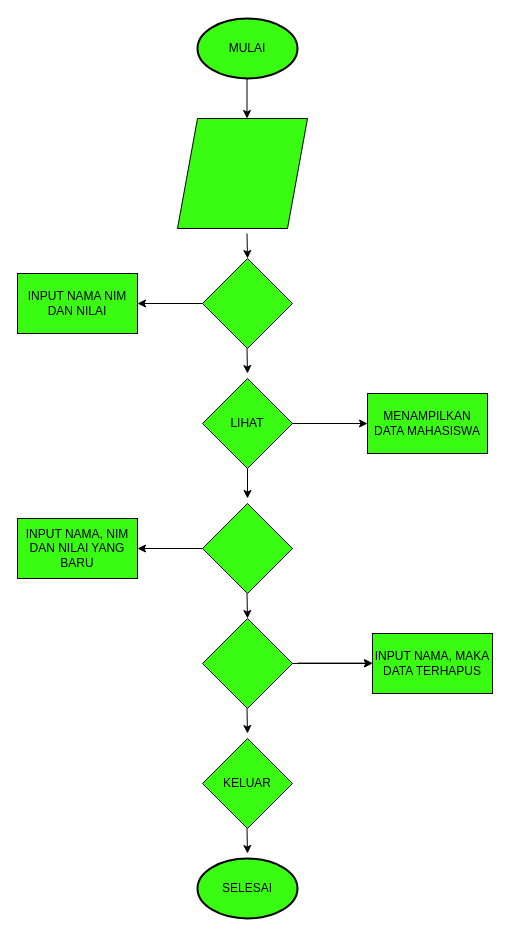
This 510x936 diagram has some shape labels left out. The centre of each missing label's shape, as x and y in pixels:
"HAPUS" belongs at (247,663).
"PILIH: TAMBAH(T) LIHAT(L) HAPUS(H) UBAH(U) KELUAR(K" belongs at (242,173).
"TAMBAH" belongs at (247,303).
"UBAH" belongs at (247,548).
